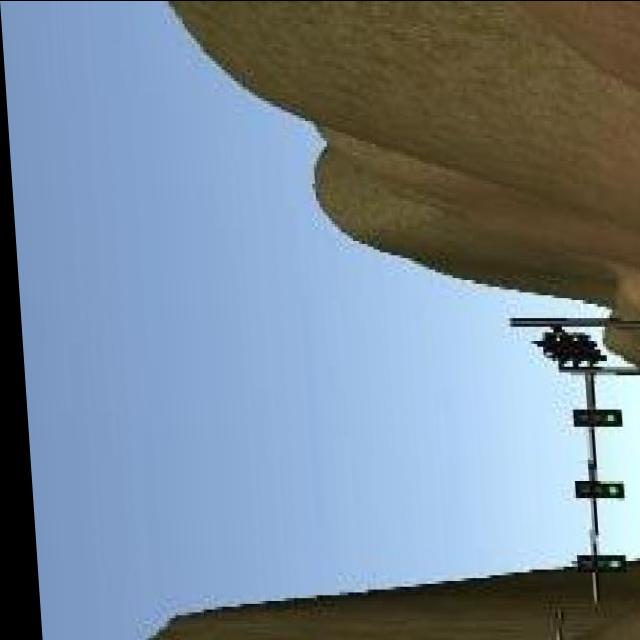green light: (562, 480, 617, 500), (564, 554, 622, 571), (568, 412, 616, 426)
